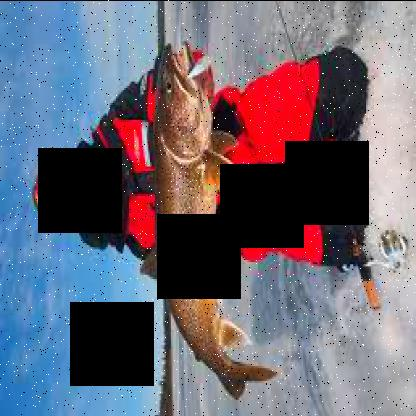fish: (138, 41, 272, 398)
